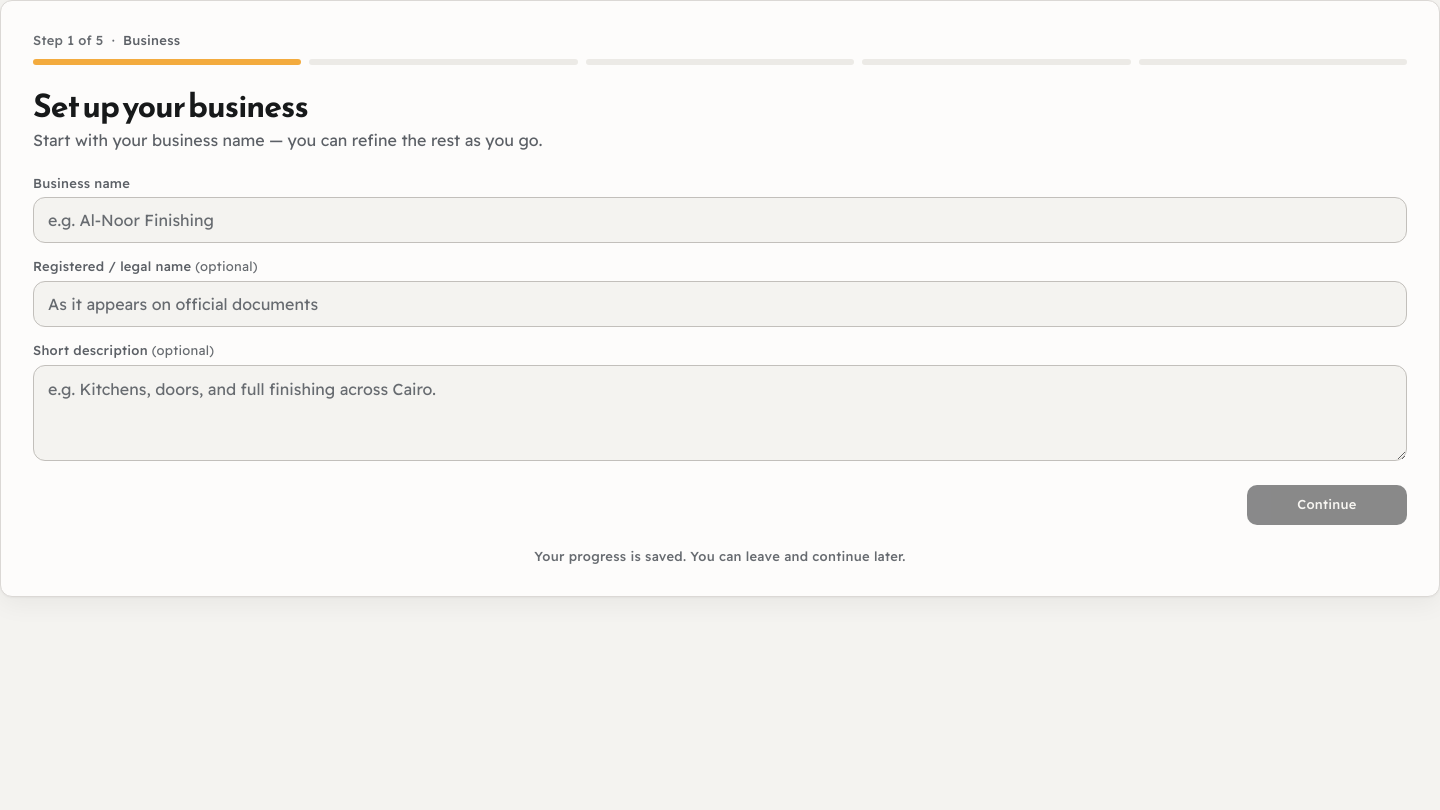
Test: BusinessFlow — acceptance gates › gates Continue on a business name, then persists and advances
Expected: the button "Continue" is disabled, x1=1247 y1=485 x2=1407 y2=525
Type "Al-Noor Supply" into the field labelled "Business name" at [720, 220], box x1=33 y1=197 x2=1407 y2=243
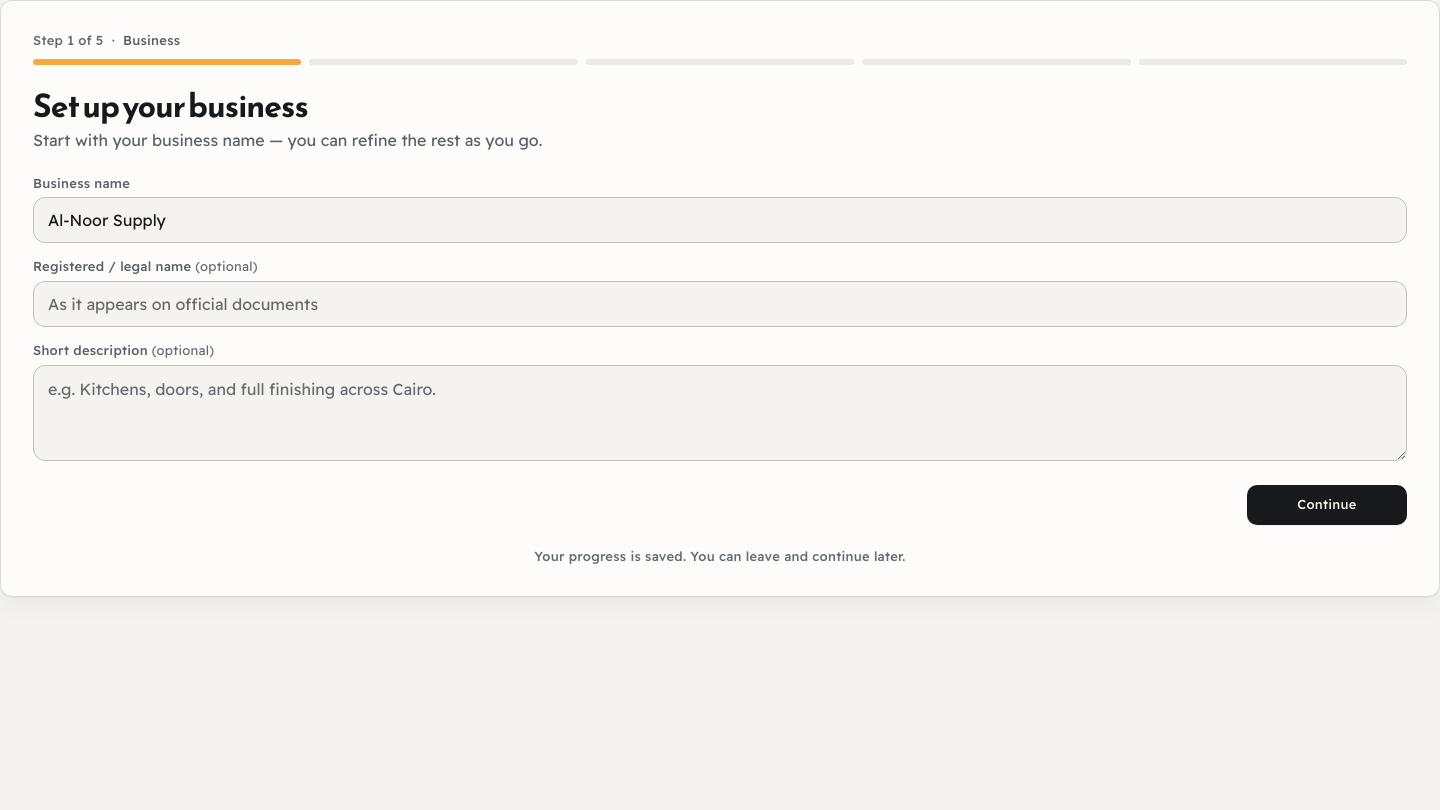
Result: the button "Continue" is enabled
Click the button "Continue" at [1327, 505], box x1=1247 y1=485 x2=1407 y2=525
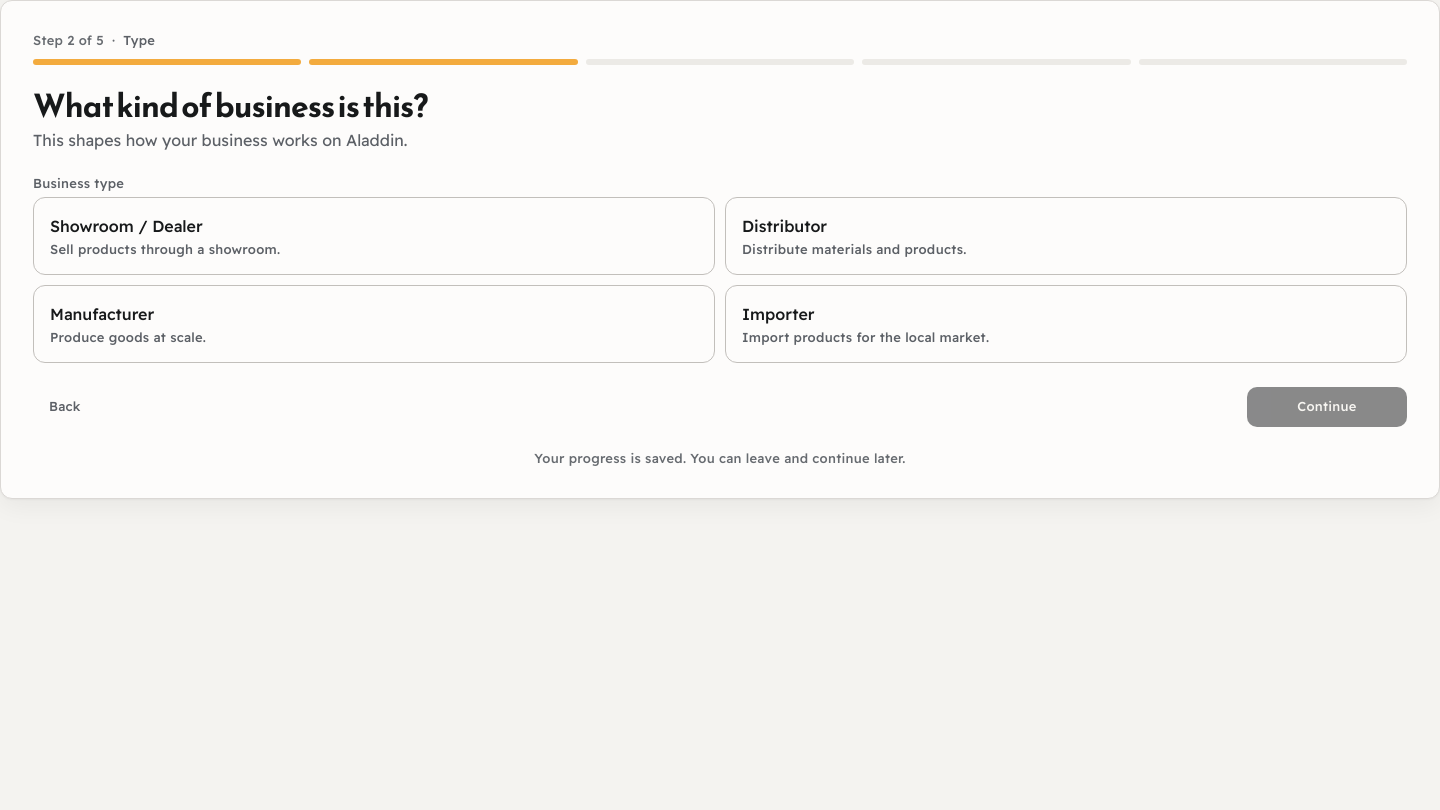
Result: the heading "What kind of business is this?" is shown at x1=33 y1=82 x2=427 y2=130
